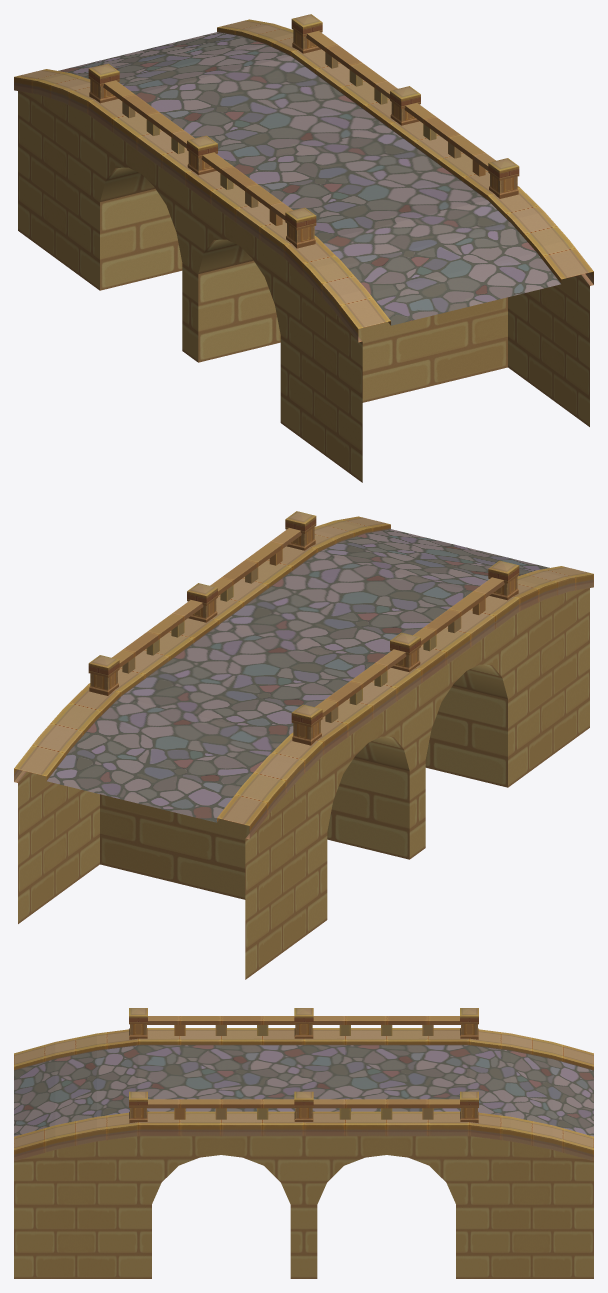
The model's file is Bridge02_b01.FBX.
3 renders of one model, top to bottom at view 1: azimuth 30°, elevation 25°; view 2: azimuth 150°, elevation 25°; view 3: azimuth 270°, elevation 25°, orthographic. The views are drawn at different scales.
Visible parts, largest first — view 1: Bridge02_b01; view 2: Bridge02_b01; view 3: Bridge02_b01.
Part boxes in pixels (x1,y1,x2,y2): Bridge02_b01: (14, 14, 593, 482); Bridge02_b01: (14, 511, 593, 979); Bridge02_b01: (14, 1008, 593, 1278).
Bounding box in the file's own units: 985 × 860 × 2497.
